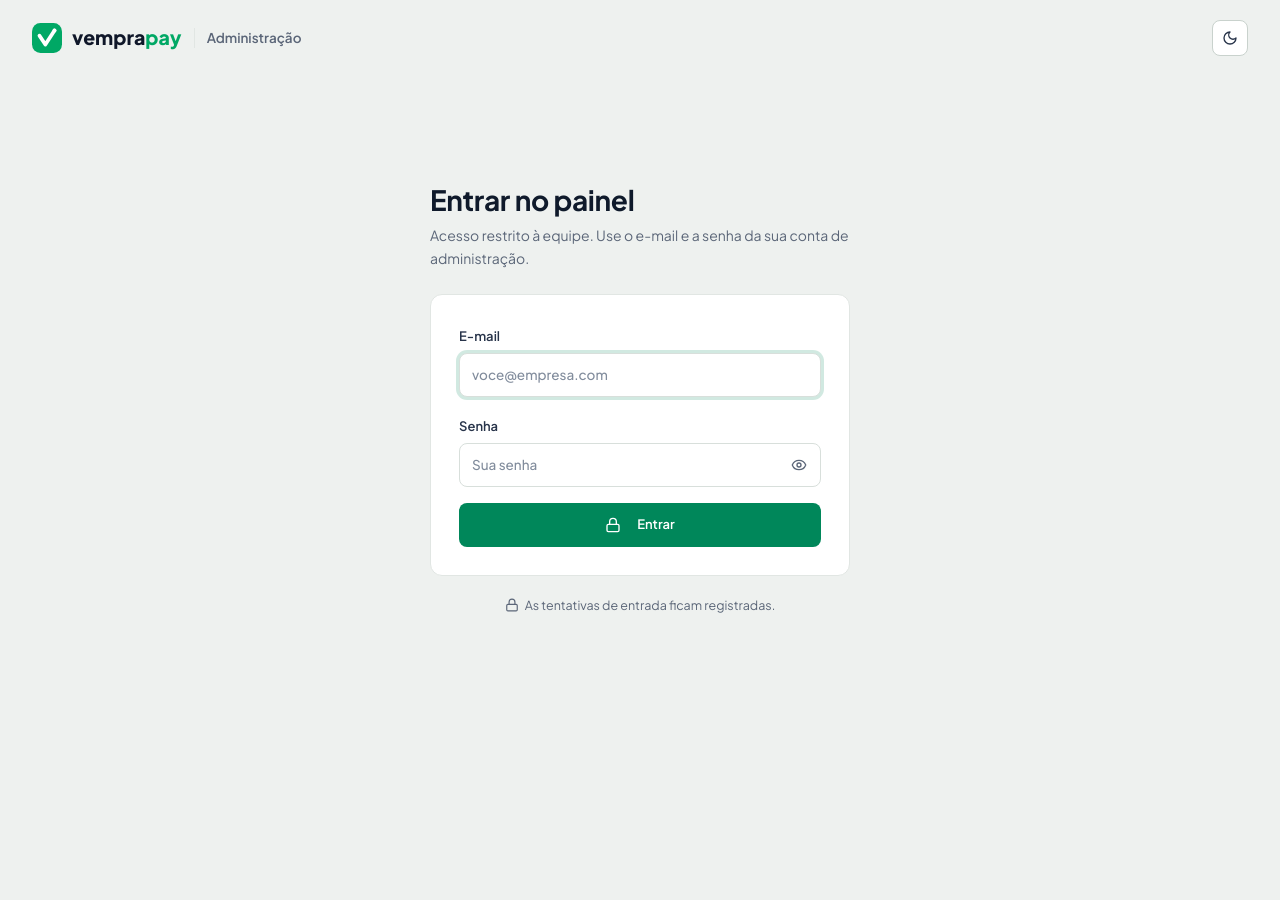
Test case: Tela de login do admin › campos vazios: mostra o que falta e não chama o servidor
Click the button "Entrar".
click(640, 525)  # box [459,503,821,547]
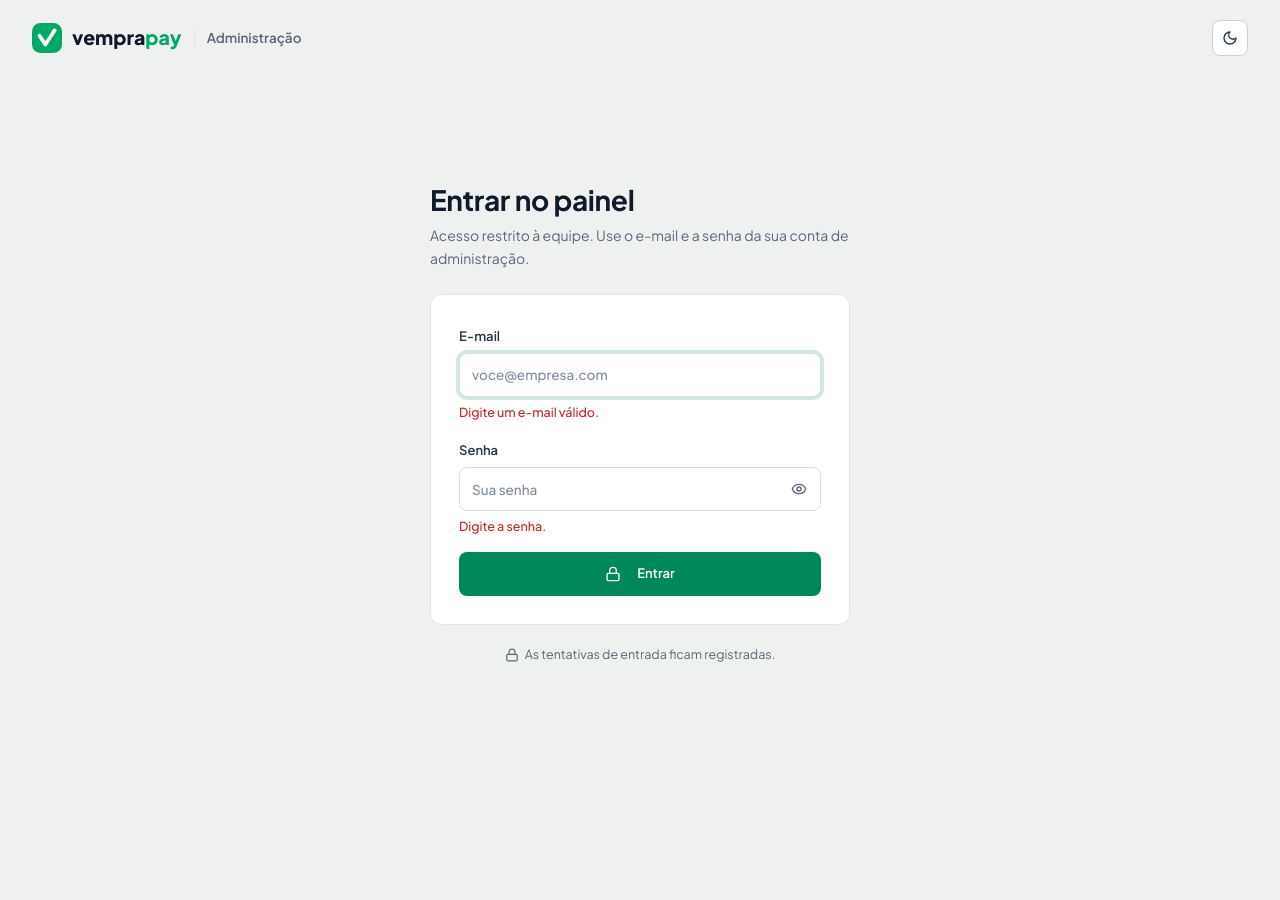
Result: the text "Digite um e-mail válido." is shown at [459,404,599,420]
Result: the text "Digite a senha." is shown at [459,518,546,534]
